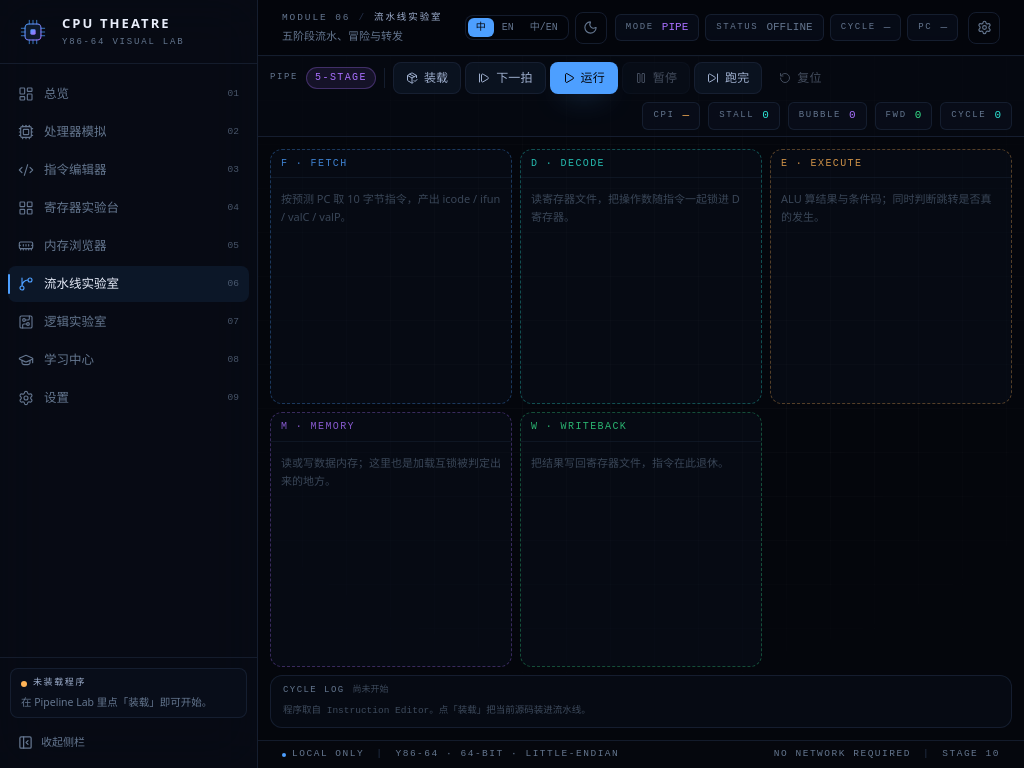
Test case: 应用外壳与路由 › 流水线页的顶栏读流水线引擎，装载后不再是 OFFLINE
Expected: the text "PIPE" next to "Mode" is shown, [662, 21, 688, 33]
Expected: the text "OFFLINE" is shown, [766, 22, 813, 33]
Click the button "装载".
click(427, 78)  # box [393, 62, 461, 94]
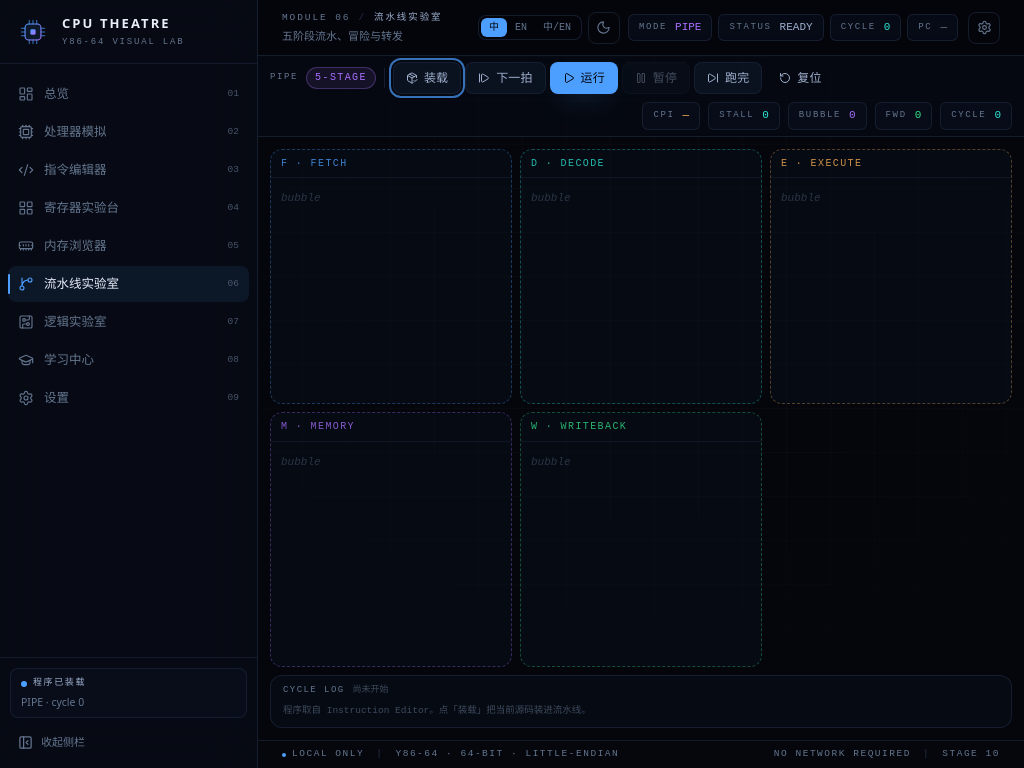
Expected: the text "OFFLINE" is gone
Expected: the text "READY" is shown, [780, 22, 813, 33]
